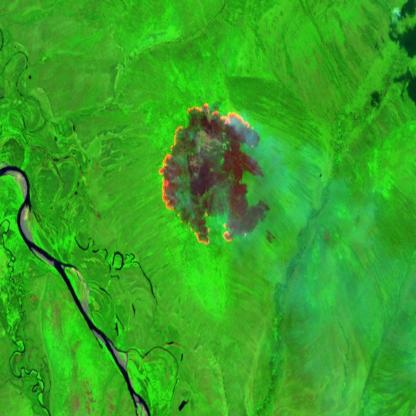fire: (157, 98, 259, 250)
